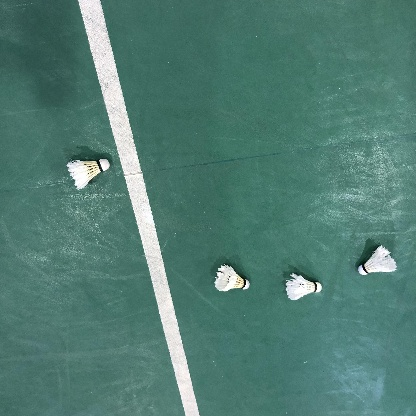ball_single: (66, 159, 110, 190), (358, 245, 397, 275), (214, 264, 250, 292), (285, 273, 322, 300)
